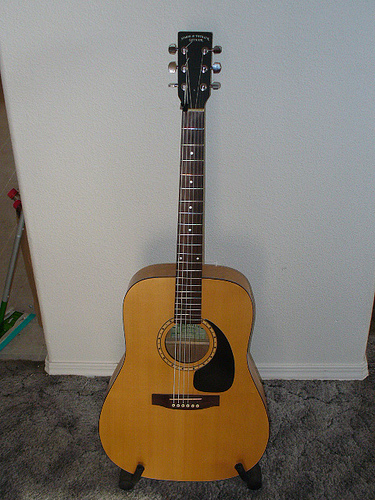guitar: (95, 33, 273, 484)
